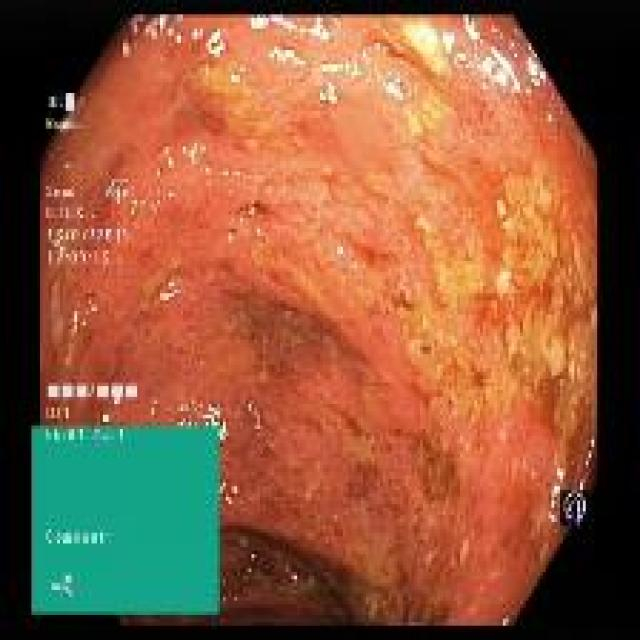ulcerative-colitis: (40, 16, 598, 624)
